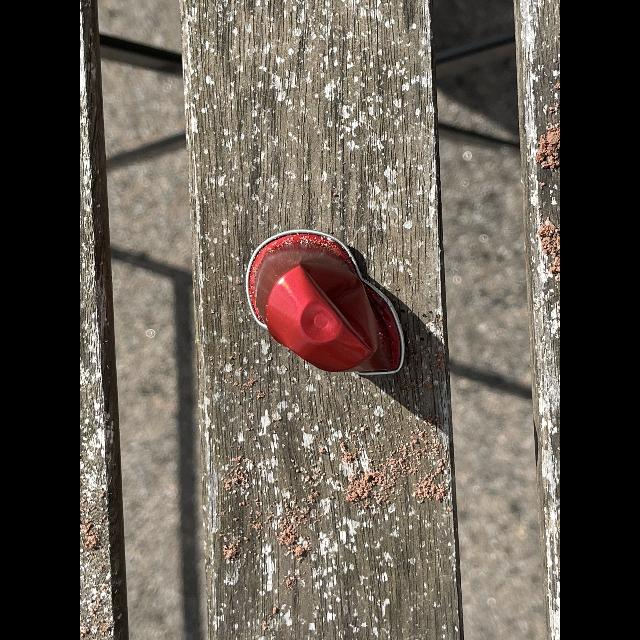damaged_capsule: (237, 226, 421, 410)
